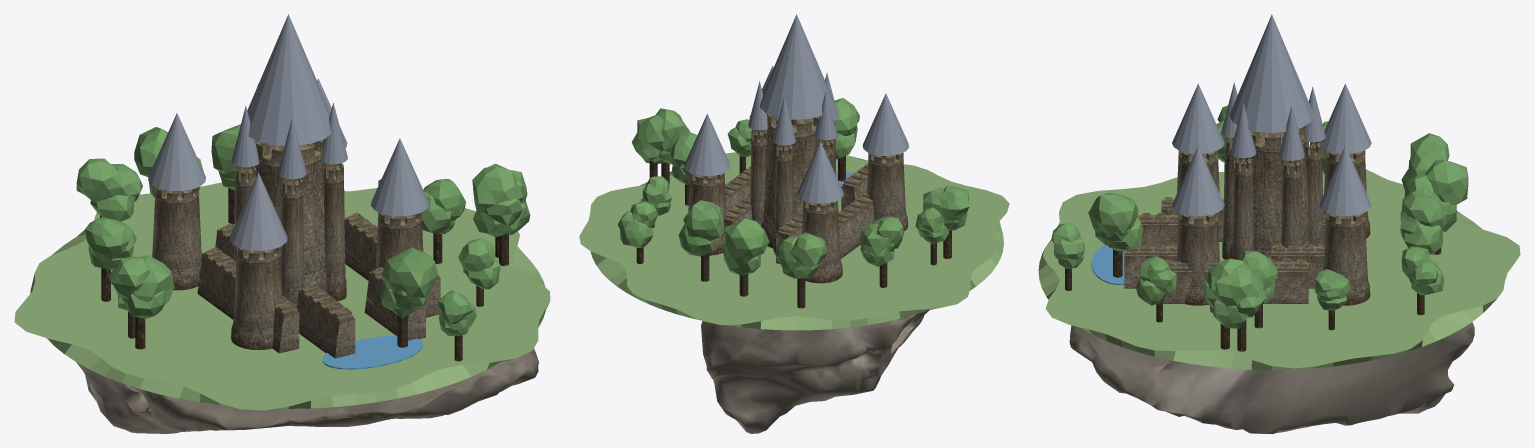
Rendered from windlauer.glb.
3 views of the same model, side by side, from view 1: azimuth 30°, elevation 25°; view 2: azimuth 150°, elevation 25°; view 3: azimuth 270°, elevation 25° (orthographic). The views are drawn at different scales.
Parts seen in each view (by area): view 1: windlauer; view 2: windlauer; view 3: windlauer.
Part boxes in pixels (x1,y1,x2,y2): windlauer: (14,14,550,433); windlauer: (579,14,1009,433); windlauer: (1038,14,1520,433).
Size of the model in its own units: 1.81 by 1.65 by 1.76.
Materials: 8 (4 with a texture image).
